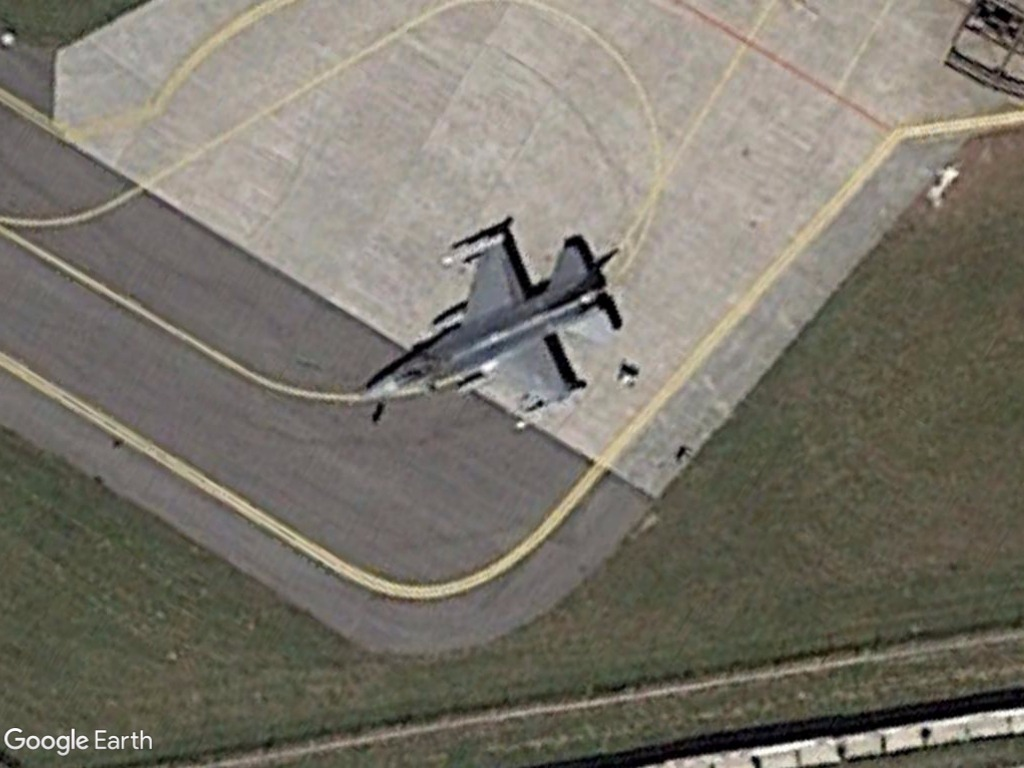fighter: (347, 220, 629, 432)
